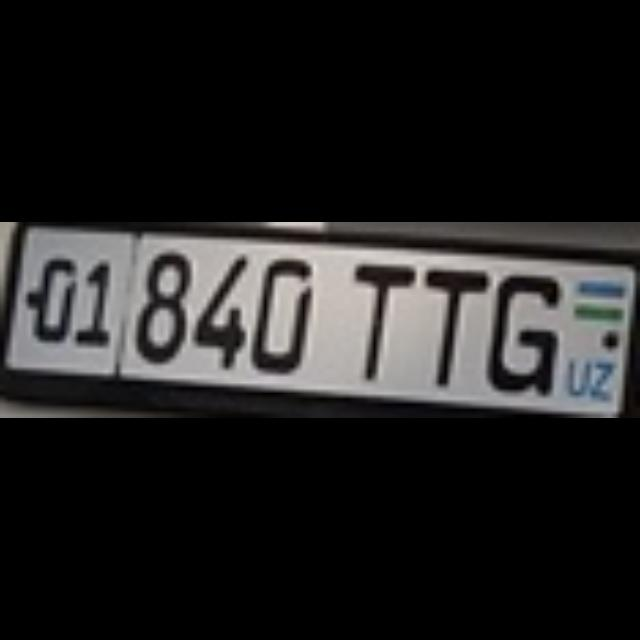0: (246, 250, 306, 370), (27, 249, 71, 337)
1: (72, 255, 105, 343)
4: (186, 250, 240, 364)
8: (132, 244, 180, 354)
G: (482, 266, 558, 392)
T: (344, 255, 410, 375), (421, 260, 481, 380)
